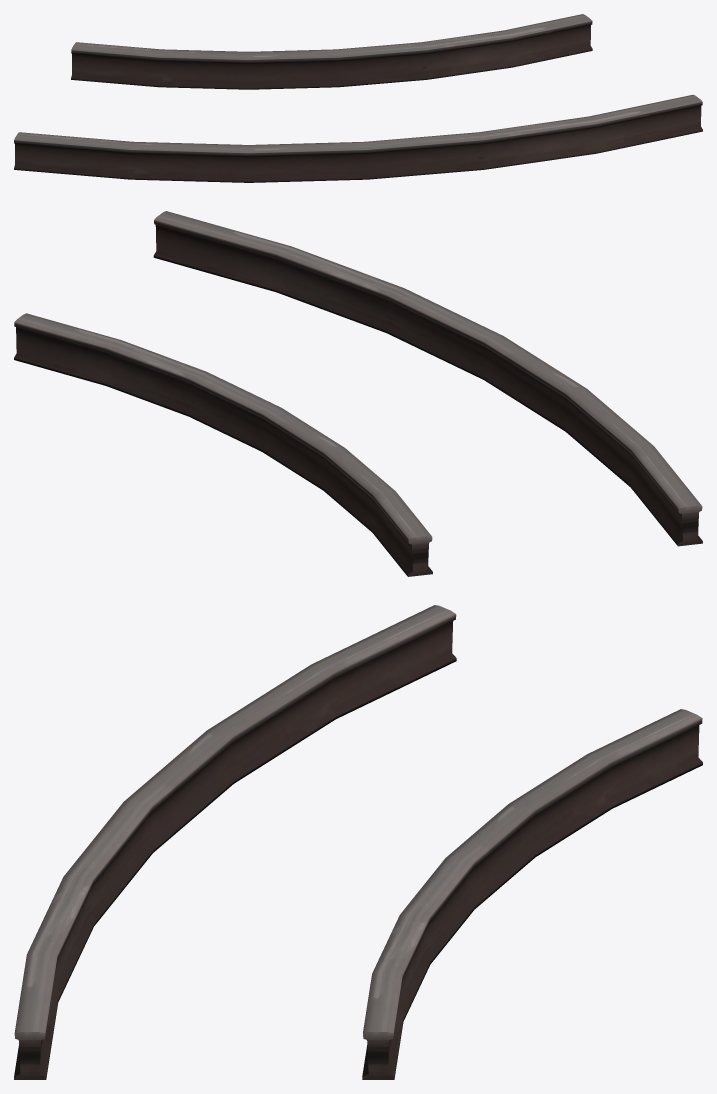
The picture shows the model from 3 angles, top to bottom: view 1: azimuth 30°, elevation 25°; view 2: azimuth 150°, elevation 25°; view 3: azimuth 270°, elevation 25°; orthographic projection. The views are drawn at different scales.
Parts seen in each view (by area): view 1: body0_model0_lod0_mesh0; view 2: body0_model0_lod0_mesh0; view 3: body0_model0_lod0_mesh0.
Boxes of the visible parts, <box> form: body0_model0_lod0_mesh0: <box>14,14,702,182</box>; body0_model0_lod0_mesh0: <box>14,211,702,576</box>; body0_model0_lod0_mesh0: <box>14,605,702,1079</box>.
Size of the model in its own units: 78.26 by 4.09 by 53.18.
1 material, 1 textured.
